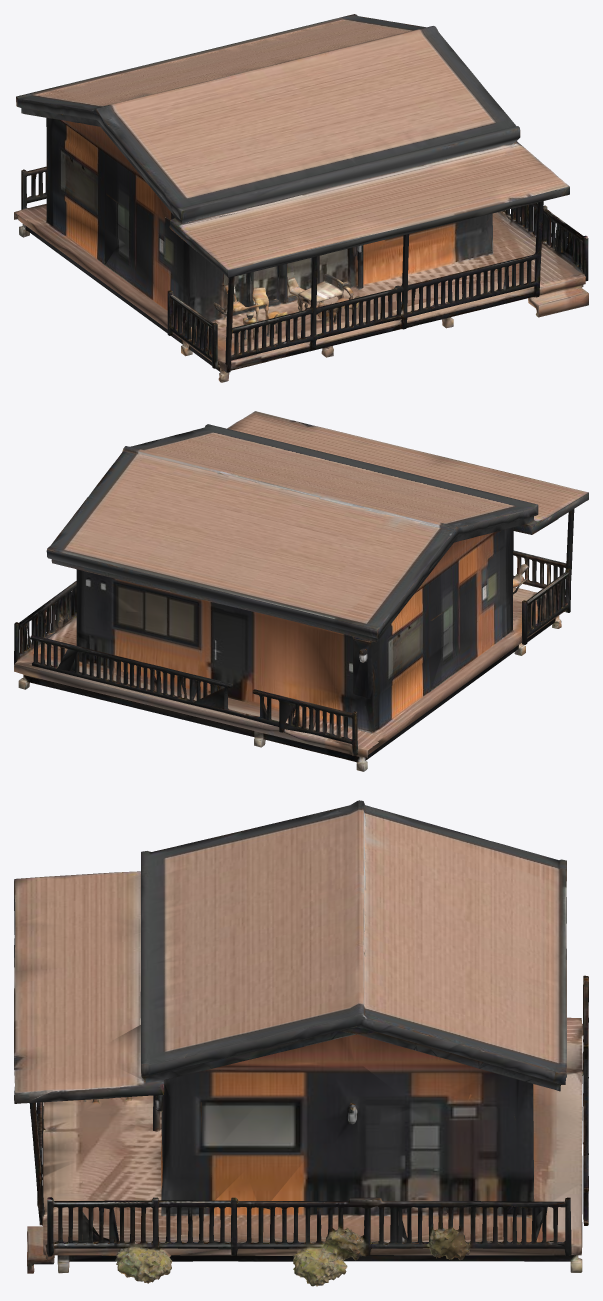
File: stay-19rb.glb
3 renders of one model, top to bottom at view 1: azimuth 30°, elevation 25°; view 2: azimuth 150°, elevation 25°; view 3: azimuth 270°, elevation 25°, orthographic. The views are drawn at different scales.
Parts seen in each view (by area): view 1: Mesh_0; view 2: Mesh_0; view 3: Mesh_0.
Boxes of the visible parts, box(x1,y1,x2,y2) form: Mesh_0: box(14, 14, 588, 382); Mesh_0: box(14, 411, 588, 771); Mesh_0: box(14, 800, 588, 1286).
Size of the model in its own units: 1.82 by 0.8453 by 1.79.
1 material, 1 textured.
